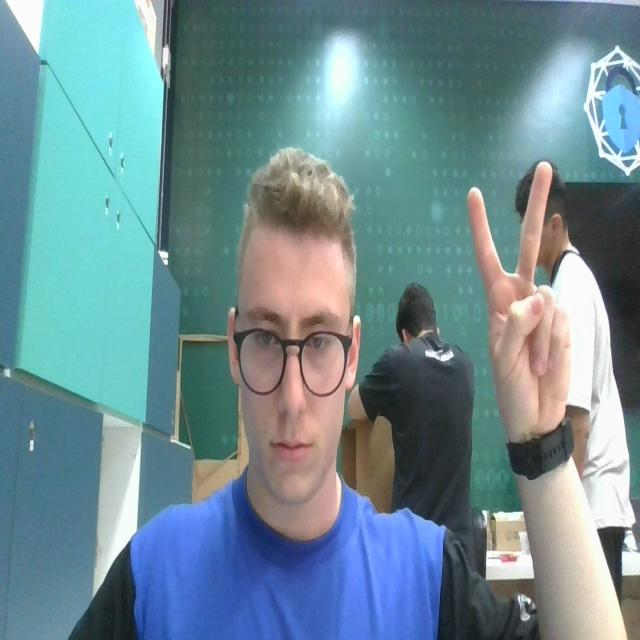V: (466, 162, 576, 426)
